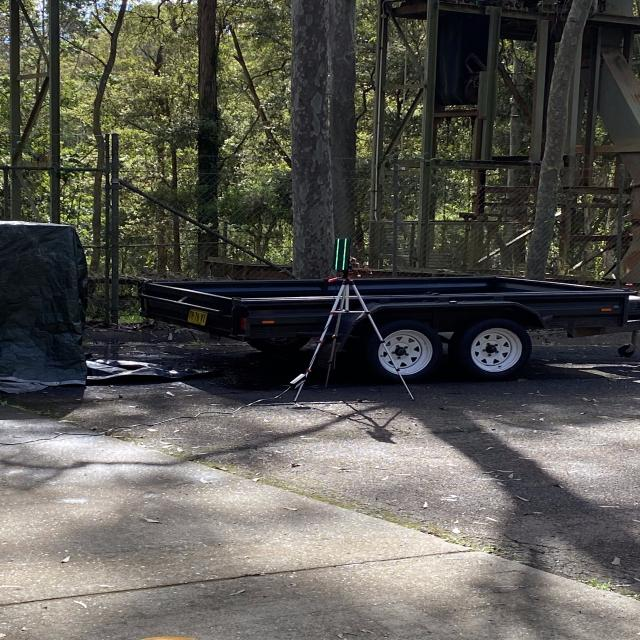matrix: (326, 234, 363, 280)
